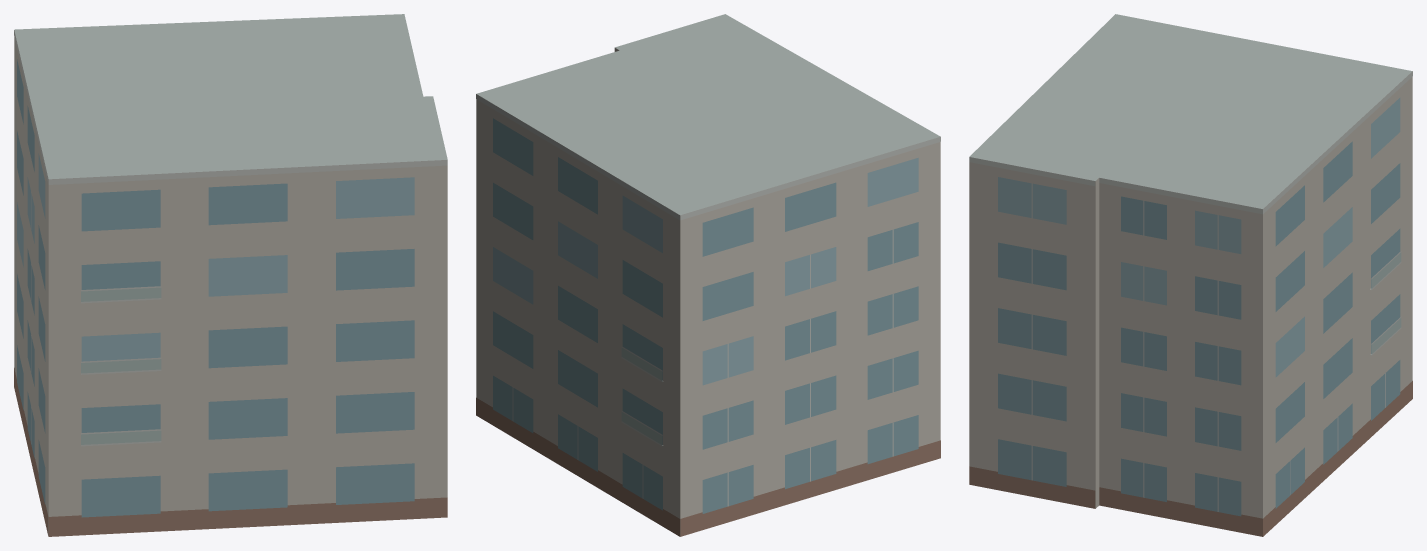
File: survey-upis-32555543.glb
3 views of the same model, side by side, from view 1: azimuth 30°, elevation 25°; view 2: azimuth 150°, elevation 25°; view 3: azimuth 270°, elevation 25° (orthographic). The views are drawn at different scales.
Parts seen in each view (by area): view 1: survey-upis-32555543.tmp; view 2: survey-upis-32555543.tmp; view 3: survey-upis-32555543.tmp.
Boxes of the visible parts, x1,y1,x2,y2 form: survey-upis-32555543.tmp: (14, 14, 447, 536); survey-upis-32555543.tmp: (476, 14, 940, 536); survey-upis-32555543.tmp: (969, 14, 1412, 536).
Bounding box in the file's own units: 19.48 × 15.25 × 18.71.
